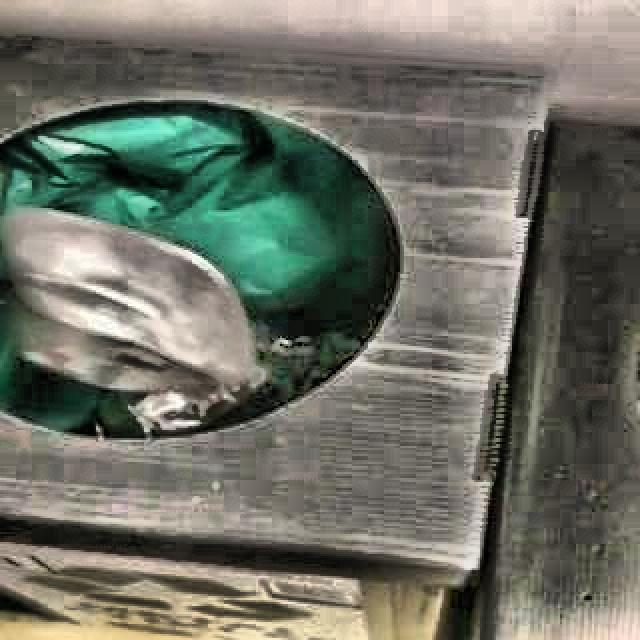metal: (3, 208, 267, 434)
